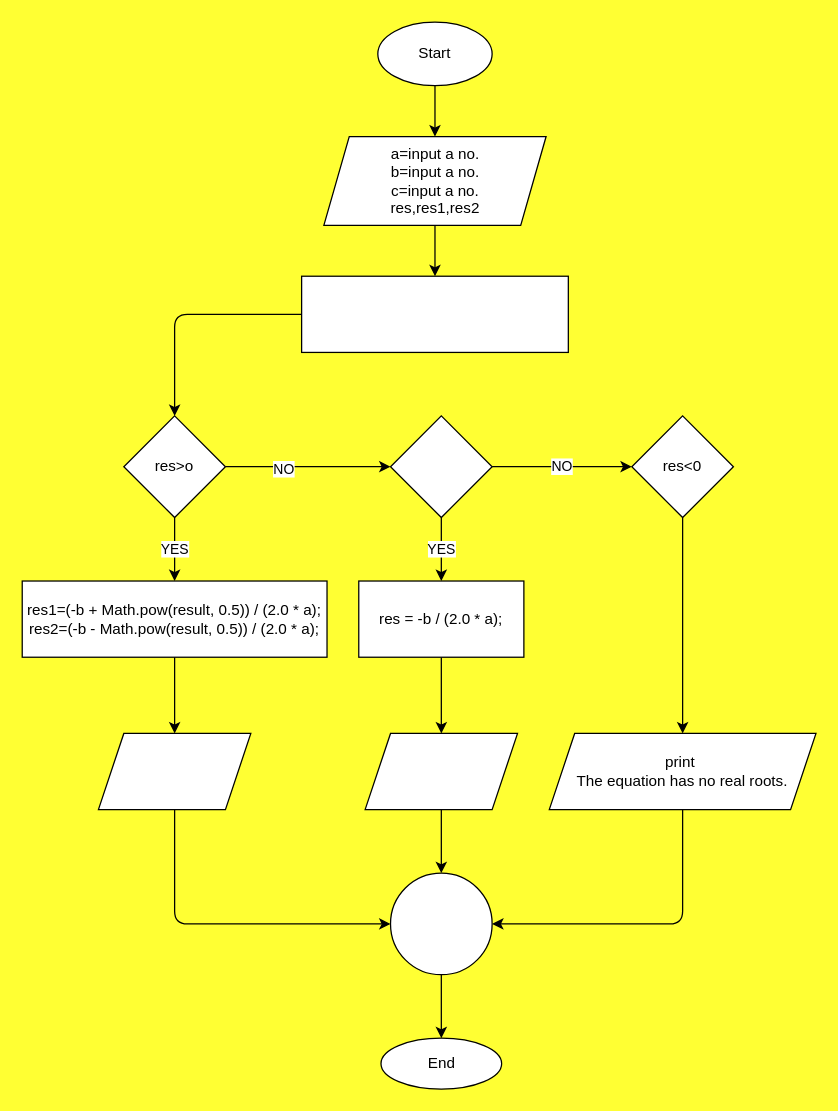
Some shapes in this 838 by 1111 pixel diagram are drawn without their labels. Each missing label, with the centre of its shape:
"print res" belongs at (441,771).
"print res1,res2" belongs at (174,771).
"res=(b * b) - (4.0 * a * c);" belongs at (434,313).
"res==o" belongs at (440,466).
